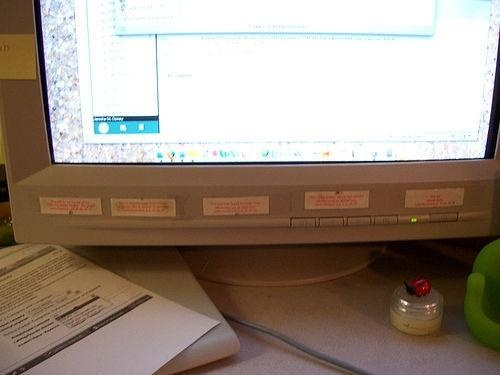tvmonitor: (1, 2, 500, 287)
